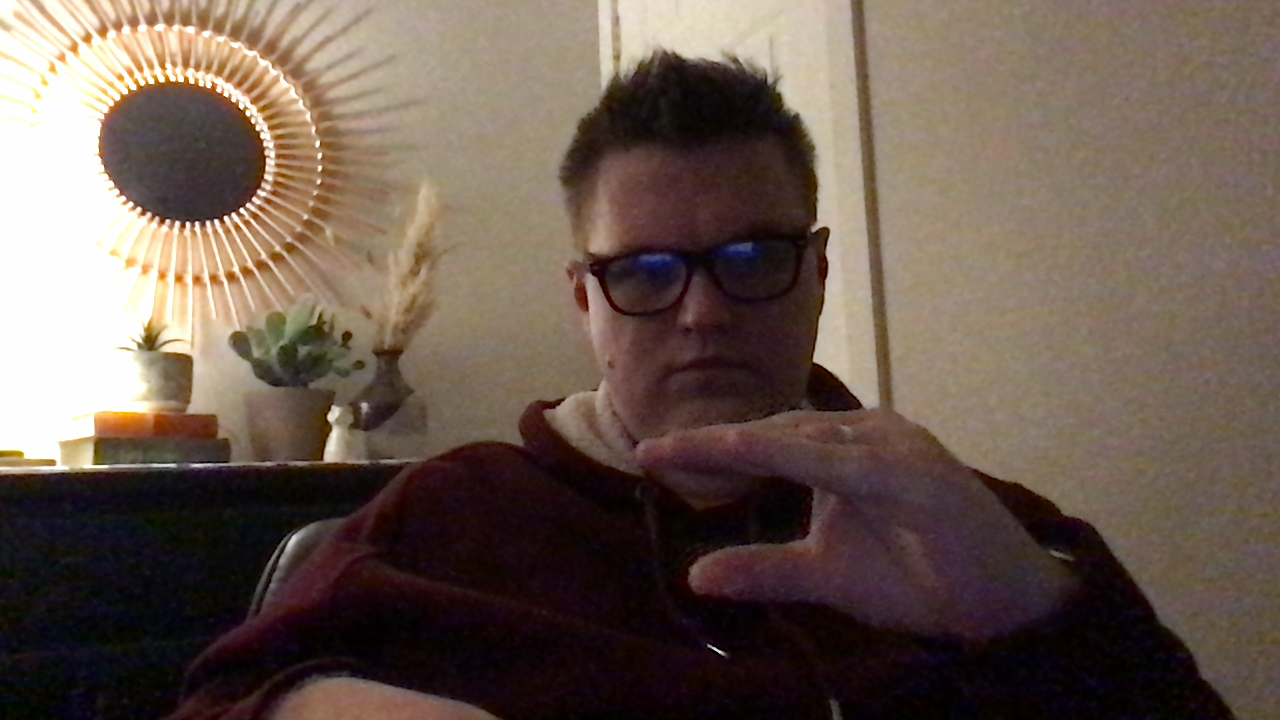no: (632, 402, 1074, 650)
